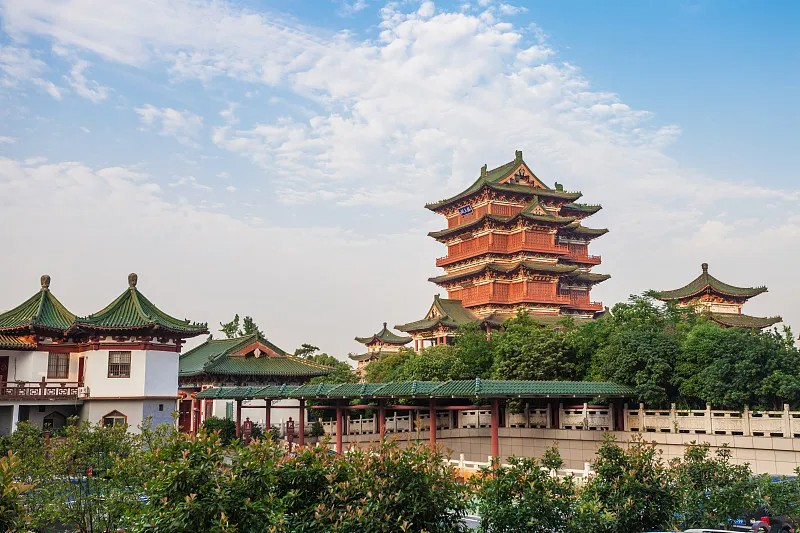Teng: (393, 150, 617, 329)
